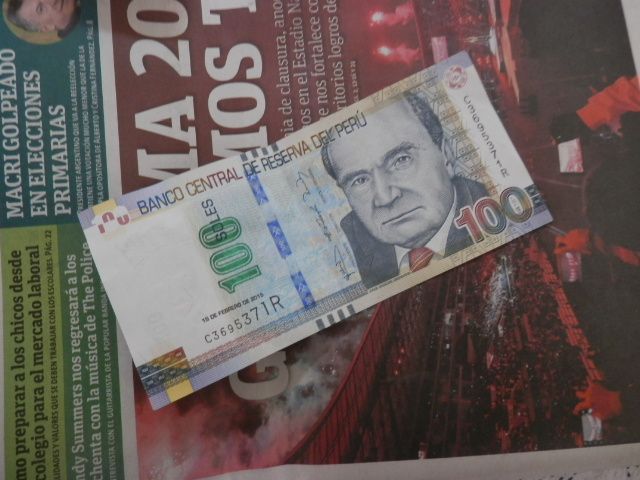B100: (84, 74, 551, 393)
